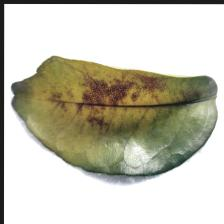black spot: (40, 60, 181, 134)
